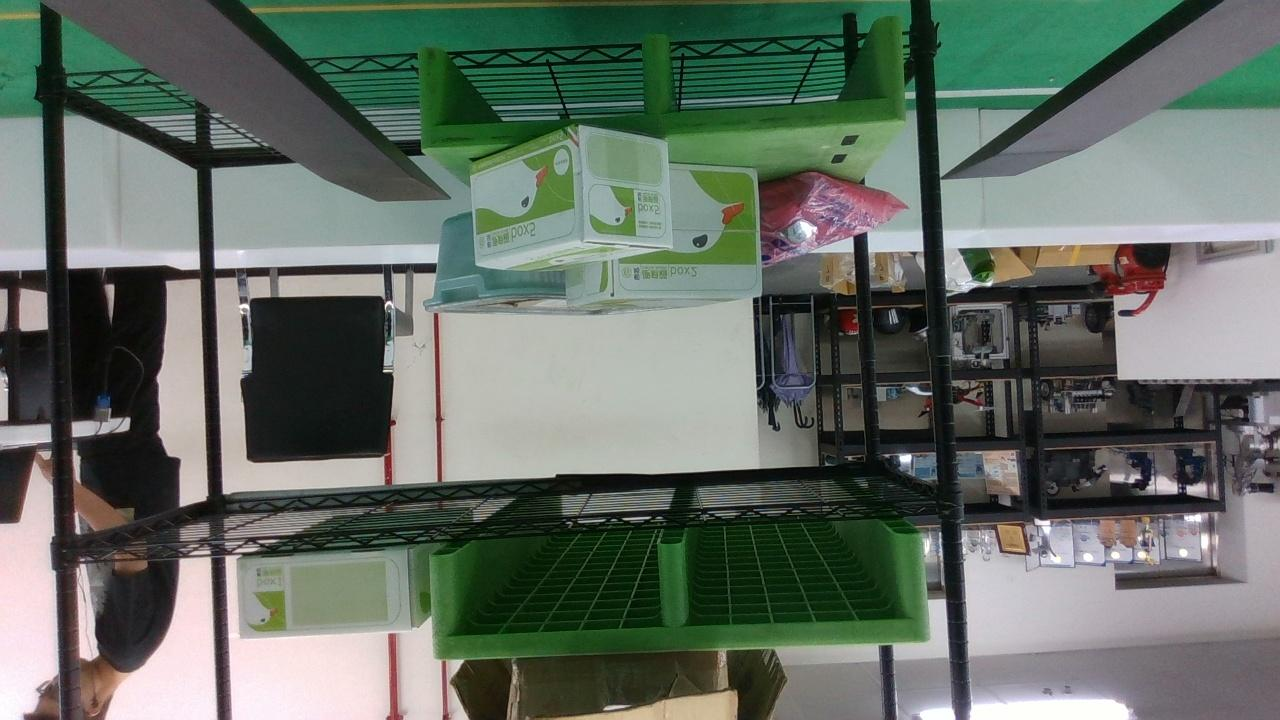Pallet: (427, 525, 936, 661), (417, 24, 907, 145)
